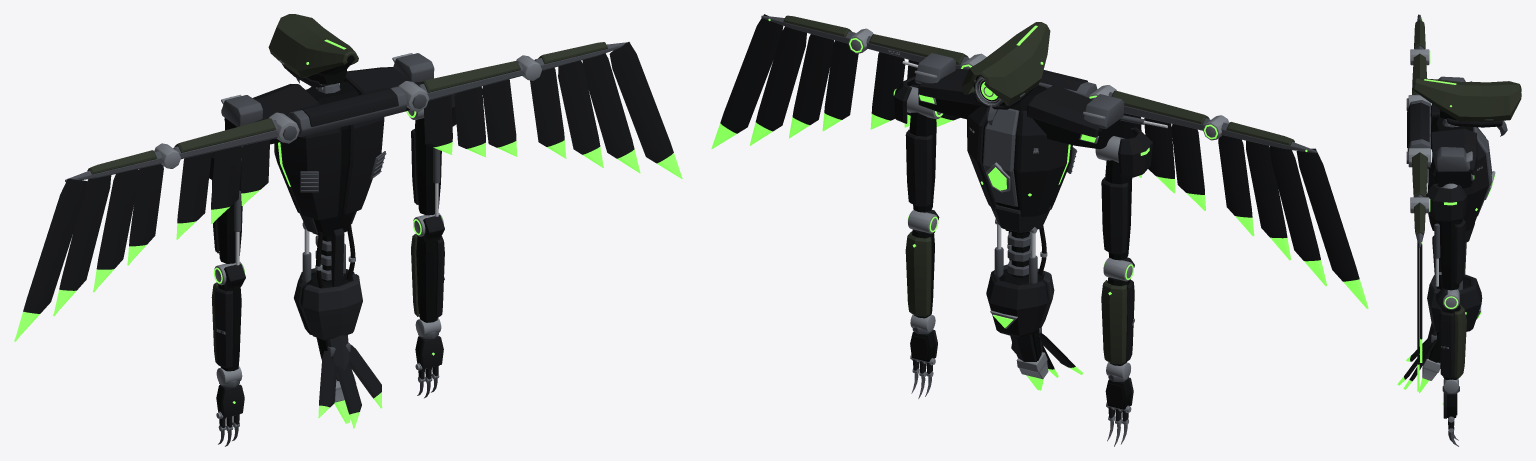
File: vulture.glb
3 renders of one model, left to right at view 1: azimuth 30°, elevation 25°; view 2: azimuth 150°, elevation 25°; view 3: azimuth 270°, elevation 25°, orthographic. The views are drawn at different scales.
Visible parts, largest first — view 1: CHEST_mesh, WINGWRIST_0_mesh, WINGWRIST_1_mesh, BODY_mesh, WING_0_mesh, WING_1_mesh, HEAD_mesh, ELBOW_1_mesh, ELBOW_0_mesh, ARM_1_mesh, ARM_0_mesh, HAND_0_mesh (+1 smaller); view 2: CHEST_mesh, WINGWRIST_0_mesh, WINGWRIST_1_mesh, BODY_mesh, WING_0_mesh, HEAD_mesh, ARM_0_mesh, WING_1_mesh, ARM_1_mesh, ELBOW_0_mesh, ELBOW_1_mesh, HAND_1_mesh (+1 smaller); view 3: CHEST_mesh, HEAD_mesh, ARM_1_mesh, BODY_mesh, ELBOW_1_mesh, WINGWRIST_1_mesh, WING_1_mesh, WINGWRIST_0_mesh, WING_0_mesh, HAND_1_mesh, WRIST_1_mesh.
Boxes of the visible parts, x1,y1,x2,y2 form: CHEST_mesh: (221, 53, 434, 236); WINGWRIST_0_mesh: (14, 143, 180, 341); WINGWRIST_1_mesh: (516, 42, 682, 178); BODY_mesh: (224, 118, 382, 428); WING_0_mesh: (173, 112, 299, 239); WING_1_mesh: (398, 61, 523, 157); HEAD_mesh: (268, 14, 358, 91); ELBOW_1_mesh: (411, 213, 444, 322); ELBOW_0_mesh: (211, 262, 245, 371); ARM_1_mesh: (406, 94, 456, 216); ARM_0_mesh: (209, 146, 242, 265); HAND_0_mesh: (216, 384, 244, 418); CHEST_mesh: (914, 53, 1124, 233); WINGWRIST_0_mesh: (1203, 115, 1368, 308); WINGWRIST_1_mesh: (711, 14, 873, 148); BODY_mesh: (918, 92, 1098, 390); WING_0_mesh: (1088, 85, 1210, 210); HEAD_mesh: (961, 22, 1050, 125); ARM_0_mesh: (1095, 127, 1152, 260); WING_1_mesh: (866, 34, 986, 129); ARM_1_mesh: (893, 76, 942, 212); ELBOW_0_mesh: (1101, 257, 1134, 365); ELBOW_1_mesh: (905, 210, 939, 318); HAND_1_mesh: (910, 330, 937, 364); CHEST_mesh: (1407, 76, 1495, 242); HEAD_mesh: (1413, 78, 1521, 136); ARM_1_mesh: (1426, 183, 1466, 290); BODY_mesh: (1397, 174, 1482, 392); ELBOW_1_mesh: (1436, 288, 1466, 379); WINGWRIST_1_mesh: (1410, 197, 1430, 391); WING_1_mesh: (1406, 148, 1432, 197); WINGWRIST_0_mesh: (1410, 14, 1430, 65); WING_0_mesh: (1406, 53, 1431, 110); HAND_1_mesh: (1442, 392, 1457, 422); WRIST_1_mesh: (1442, 378, 1459, 394).
Size of the model in its own units: 2.89 by 1.61 by 0.5546.
